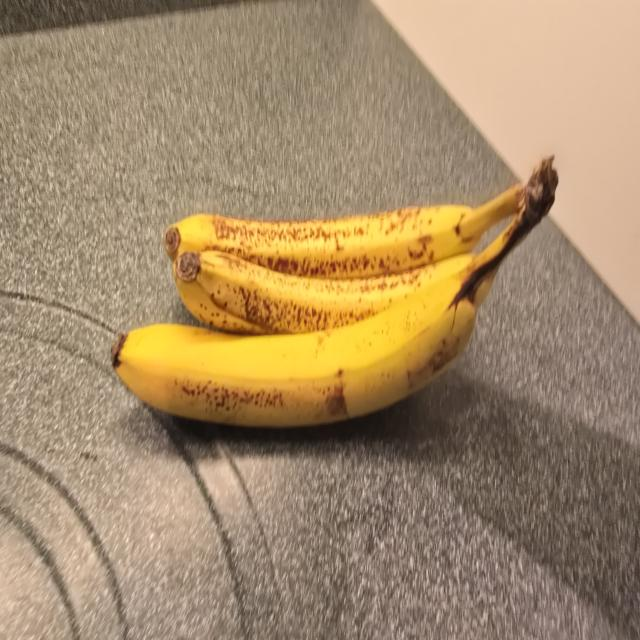Banana: (103, 147, 569, 444)
